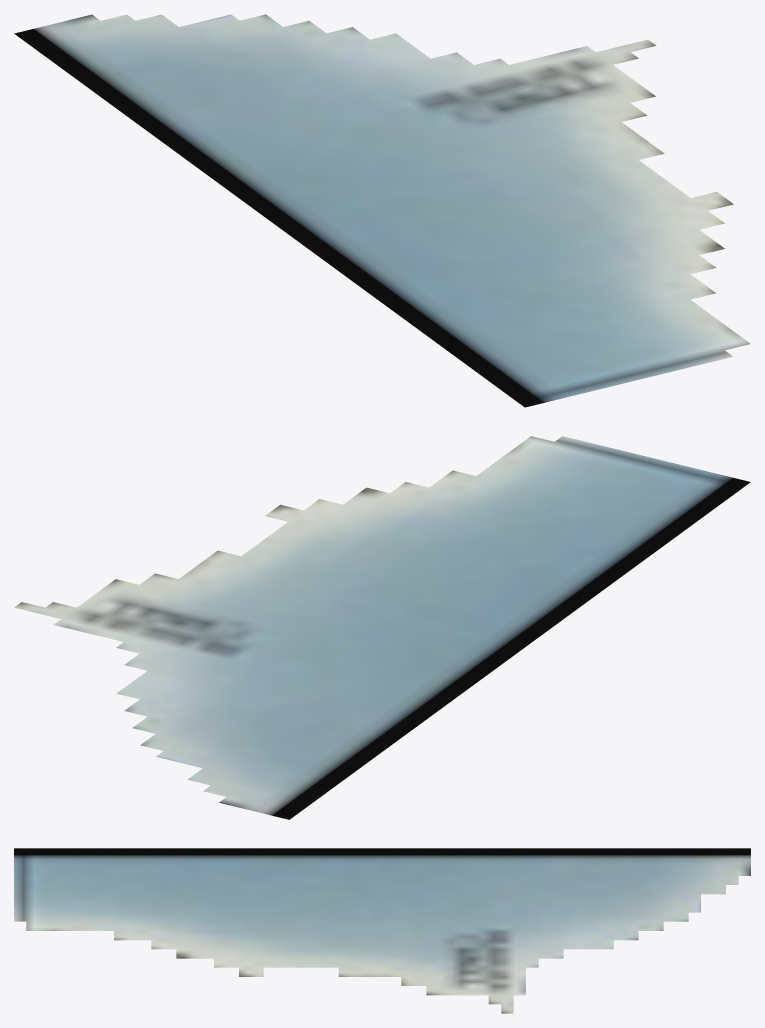
File: eastern-panama-sea.gltf
The picture shows the model from 3 angles, top to bottom: view 1: azimuth 30°, elevation 25°; view 2: azimuth 150°, elevation 25°; view 3: azimuth 270°, elevation 25°; orthographic projection. The views are drawn at different scales.
Visible parts, largest first — view 1: Plane; view 2: Plane; view 3: Plane.
Boxes of the visible parts, x1,y1,x2,y2 form: Plane: (14,14,750,407); Plane: (14,436,750,819); Plane: (14,848,750,1013).
Size of the model in its own units: 0.1777 by 0 by 0.3351.
Materials: 1 (1 with a texture image).
